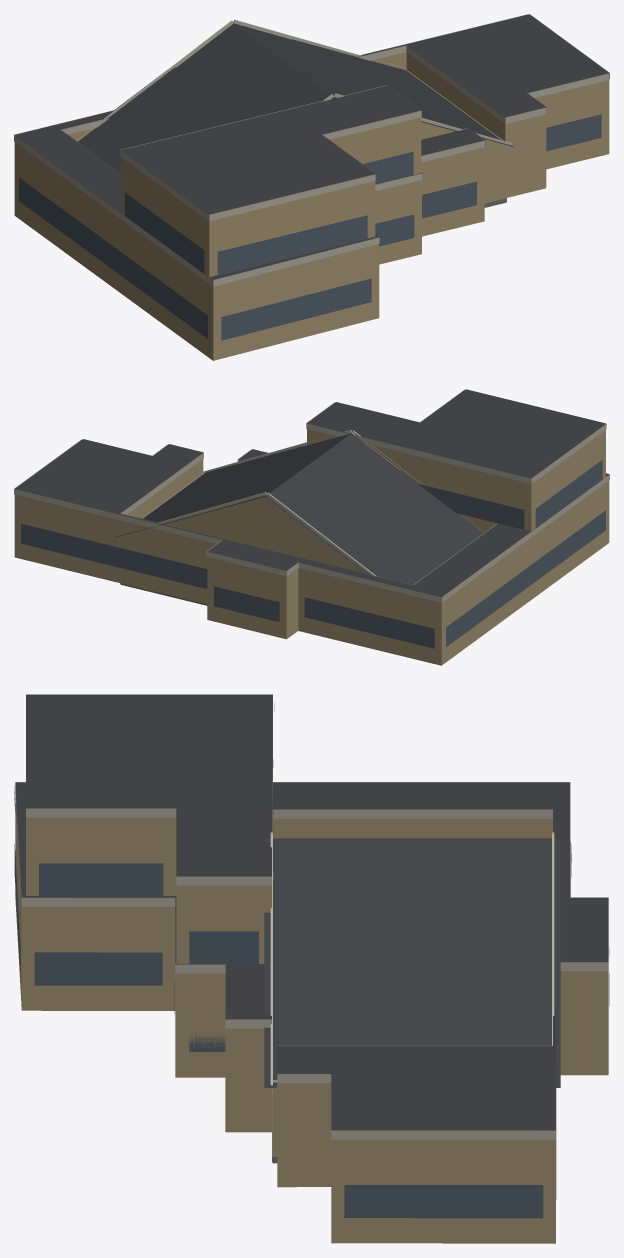
The model's file is allison-presbyterian-1965.glb.
The picture shows the model from 3 angles, top to bottom: view 1: azimuth 30°, elevation 25°; view 2: azimuth 150°, elevation 25°; view 3: azimuth 270°, elevation 25°; orthographic projection. The views are drawn at different scales.
Visible parts, largest first — view 1: allison_presbyterian_1965; view 2: allison_presbyterian_1965; view 3: allison_presbyterian_1965.
Part boxes in pixels (x1,y1,x2,y2): allison_presbyterian_1965: [14, 14, 609, 360]; allison_presbyterian_1965: [14, 389, 609, 665]; allison_presbyterian_1965: [14, 694, 609, 1243].
Bounding box in the file's own units: 38.45 × 10.97 × 27.76.
